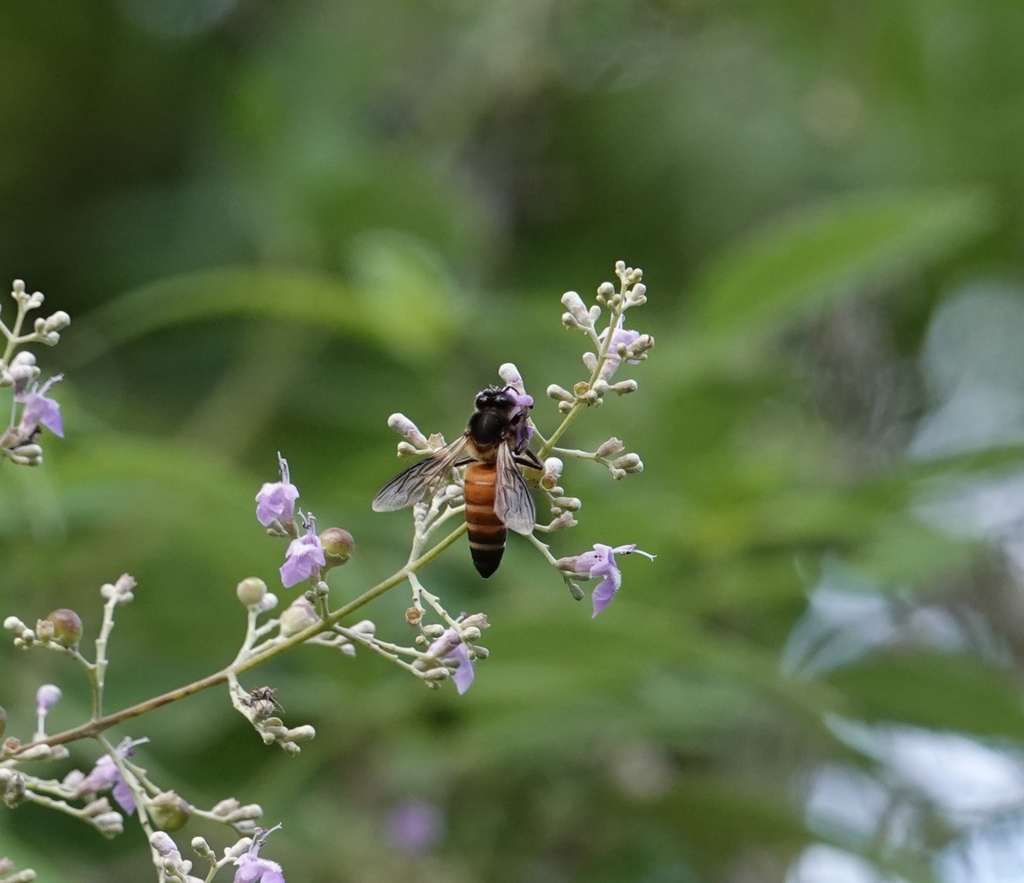honeybee: (372, 384, 543, 579)
